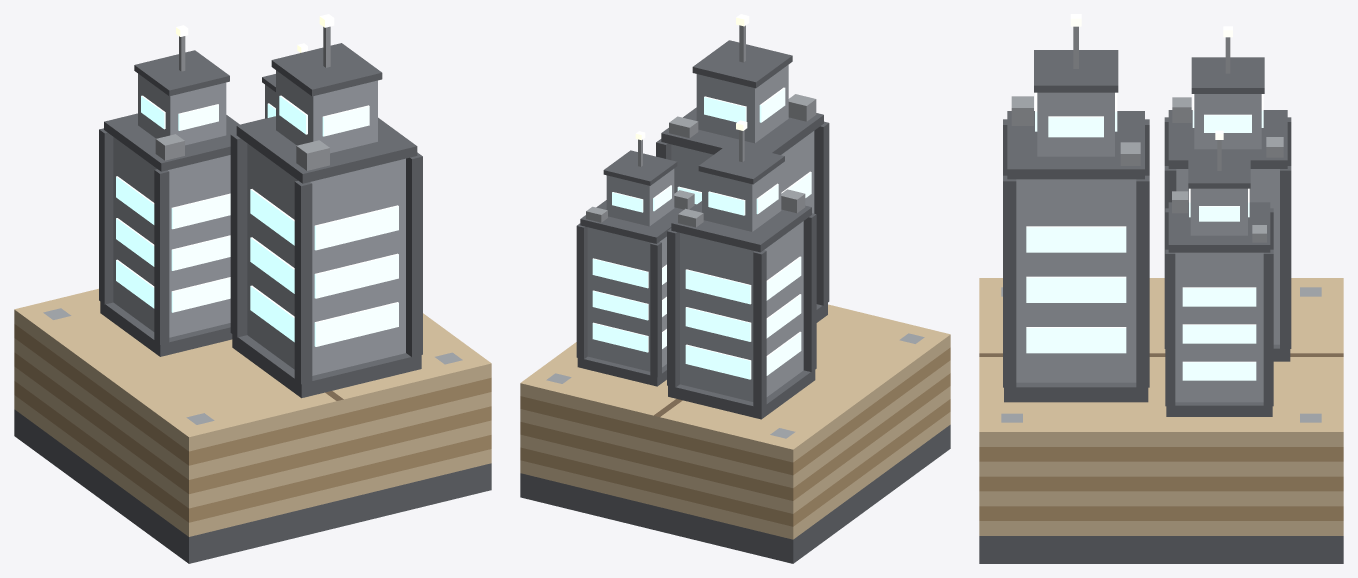
Rendered from PlywoodTile_Center3.fbx.
The picture shows the model from 3 angles, left to right: view 1: azimuth 30°, elevation 25°; view 2: azimuth 150°, elevation 25°; view 3: azimuth 270°, elevation 25°; orthographic projection. The views are drawn at different scales.
Parts seen in each view (by area): view 1: PlywoodTile_Center3; view 2: PlywoodTile_Center3; view 3: PlywoodTile_Center3.
Boxes of the visible parts, left/top/right/bottom form: PlywoodTile_Center3: left=14, top=14, right=491, bottom=563; PlywoodTile_Center3: left=520, top=14, right=950, bottom=563; PlywoodTile_Center3: left=979, top=14, right=1343, bottom=563.
Size of the model in its own units: 1 by 1.48 by 1.
